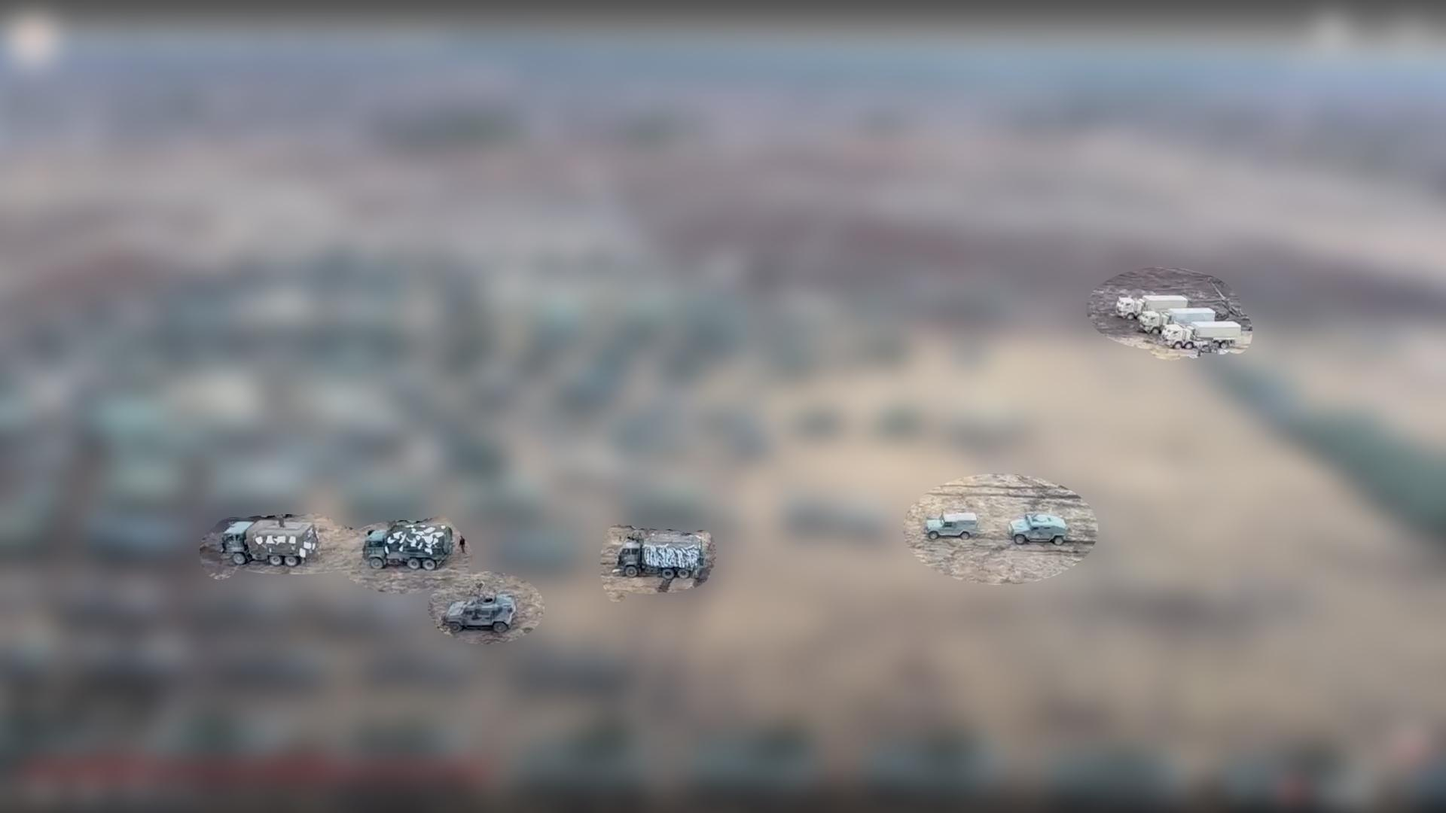armored_car: (441, 594, 519, 635), (1010, 514, 1070, 546), (925, 513, 983, 540)
truck: (361, 522, 455, 572), (219, 520, 319, 566), (615, 535, 703, 579), (1161, 319, 1242, 352)
